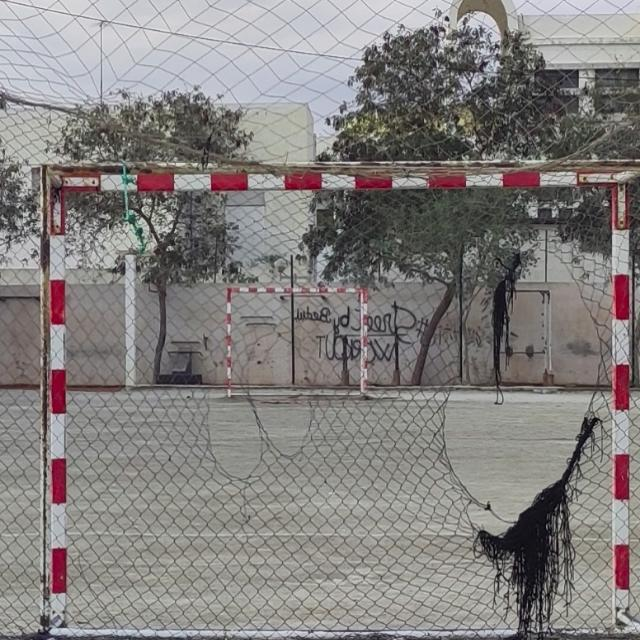fence line: (452, 229, 609, 566), (205, 343, 328, 488)
